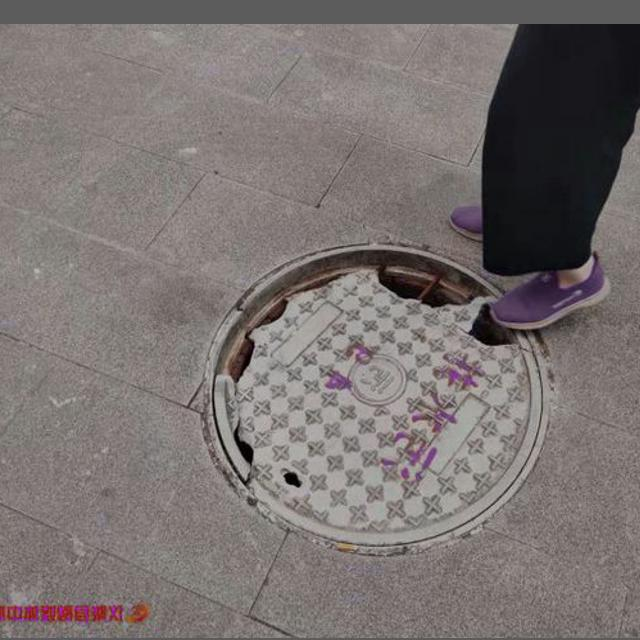broke: (182, 244, 565, 548)
